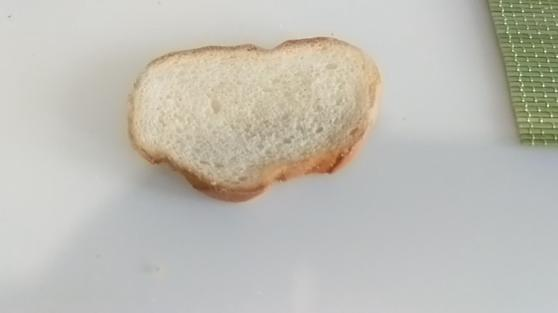white_bread: (127, 37, 384, 201)
